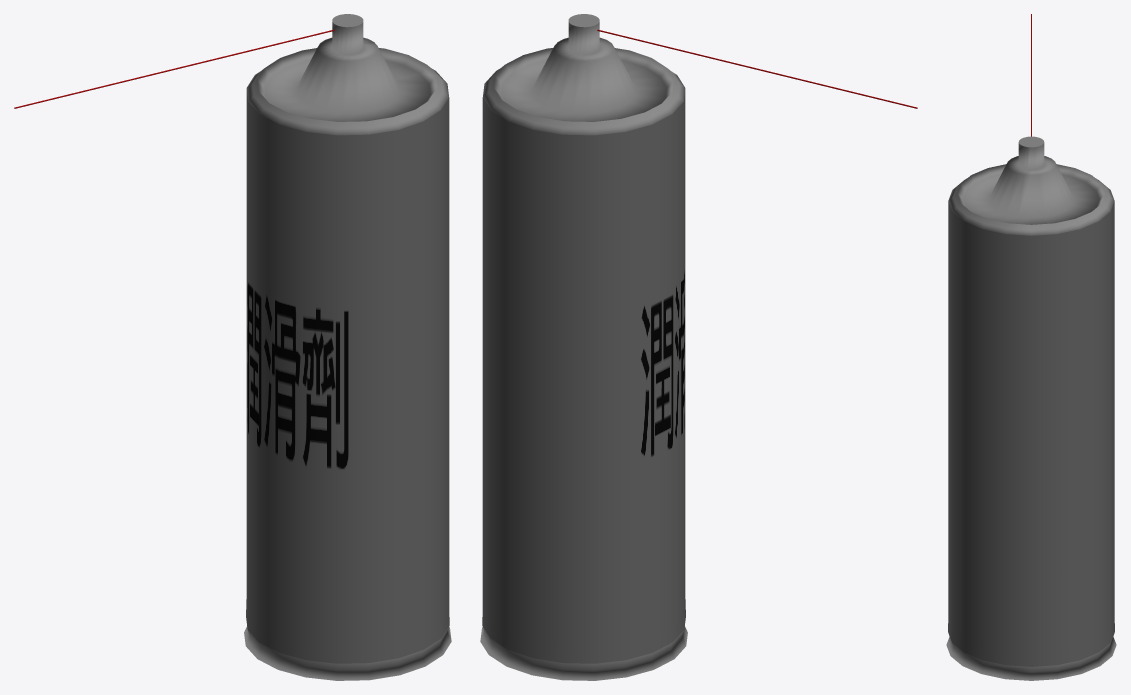
The model's file is Lubricantopen.fbx.
3 renders of one model, left to right at view 1: azimuth 30°, elevation 25°; view 2: azimuth 150°, elevation 25°; view 3: azimuth 270°, elevation 25°, orthographic. The views are drawn at different scales.
Parts seen in each view (by area): view 1: pCylinder3; view 2: pCylinder3; view 3: pCylinder3.
Part boxes in pixels (x1,y1,x2,y2): pCylinder3: (14,14,451,680); pCylinder3: (480,14,917,680); pCylinder3: (946,14,1116,680).
Bounding box in the file's own units: 7.84 × 10.9 × 3.35.
